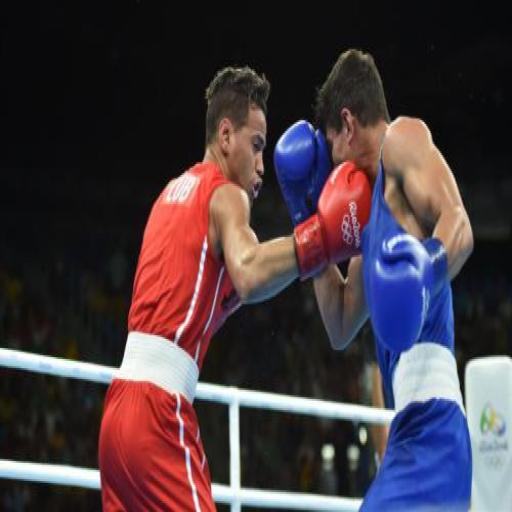boxing: (97, 62, 371, 508), (274, 48, 475, 510)
